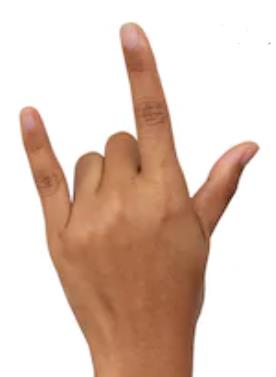back: (18, 17, 264, 321)
